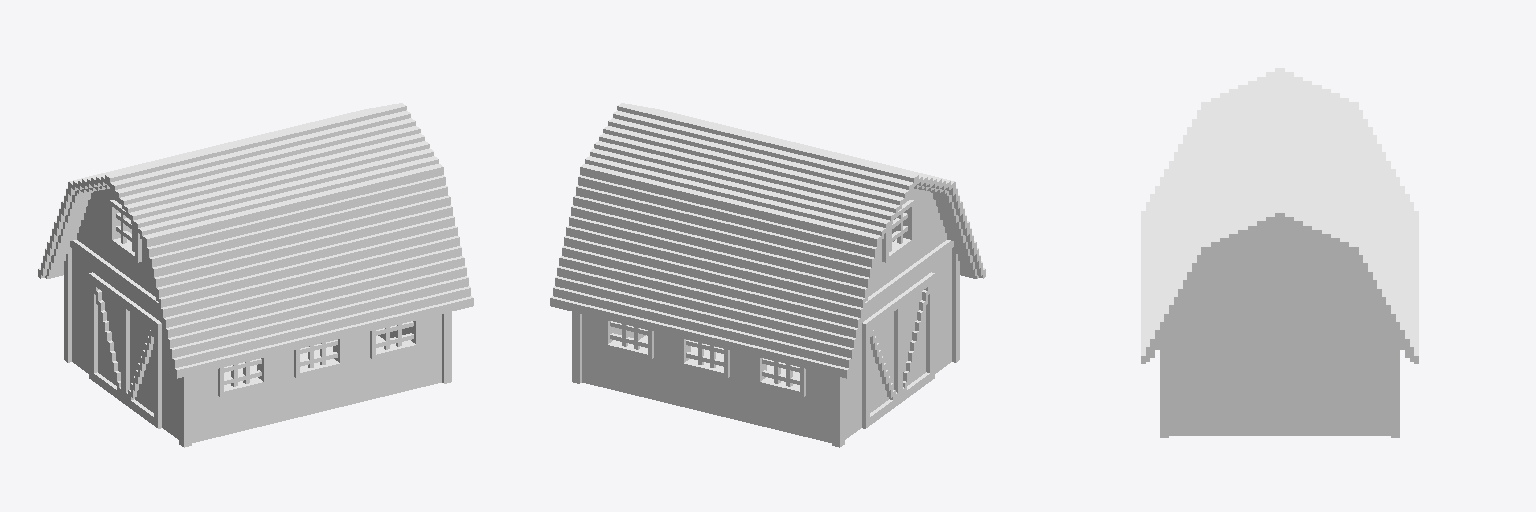
File: Barn.obj
The picture shows the model from 3 angles: view 1: azimuth 30°, elevation 25°; view 2: azimuth 150°, elevation 25°; view 3: azimuth 270°, elevation 25°; orthographic projection.
Visible parts, largest first — view 1: Barn; view 2: Barn; view 3: Barn.
Boxes of the visible parts, x1=… form: Barn: x1=38, y1=103, x2=473, y2=447; Barn: x1=550, y1=103, x2=985, y2=447; Barn: x1=1141, y1=68, x2=1418, y2=437.
Size of the model in its own units: 74 by 55 by 60.